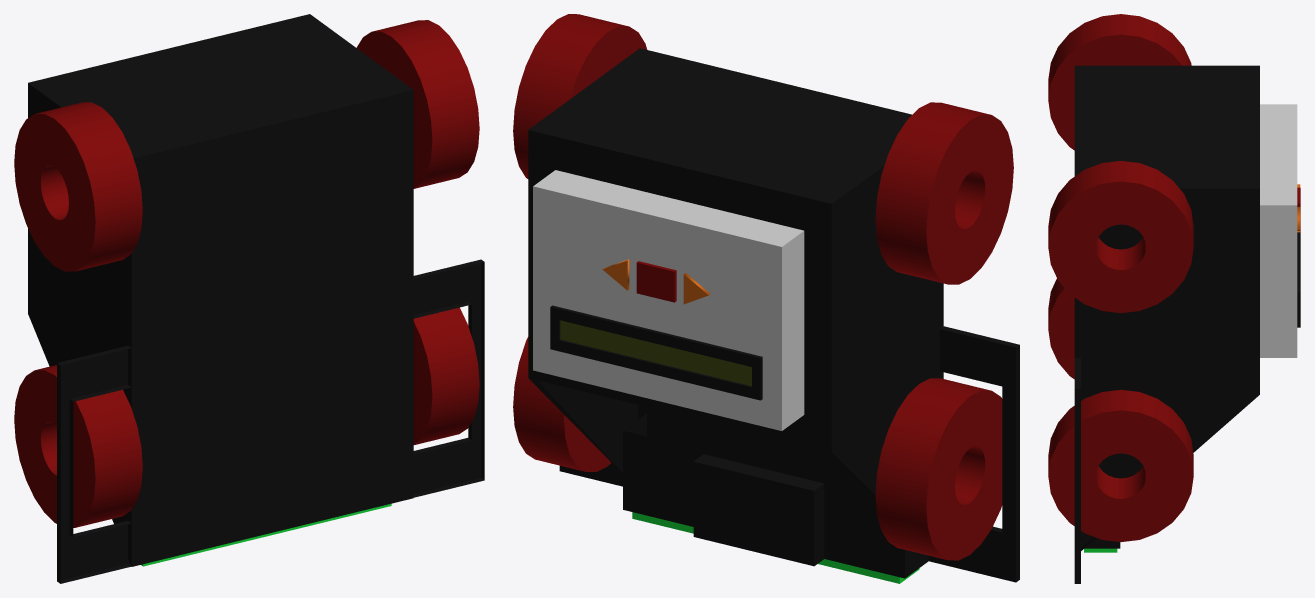
File: Robot.FBX
3 renders of one model, left to right at view 1: azimuth 30°, elevation 25°; view 2: azimuth 150°, elevation 25°; view 3: azimuth 270°, elevation 25°, orthographic. The views are drawn at different scales.
Visible parts, largest first — view 1: Body, Wheels, Touch; view 2: Body, Wheels, Touch, Boxw002; view 3: Body, Wheels, Touch.
Part boxes in pixels (x1,y1,x2,y2): Body: (28,14,484,583); Wheels: (14,20,479,527); Touch: (141,503,391,566); Body: (528,48,1019,582); Wheels: (513,14,1013,560); Touch: (623,413,928,583); Boxw002: (693,454,824,566); Body: (1074,65,1300,583); Wheels: (1048,14,1193,541); Touch: (1084,538,1120,552).
Size of the model in its own units: 18.94 by 19.15 by 10.93.
